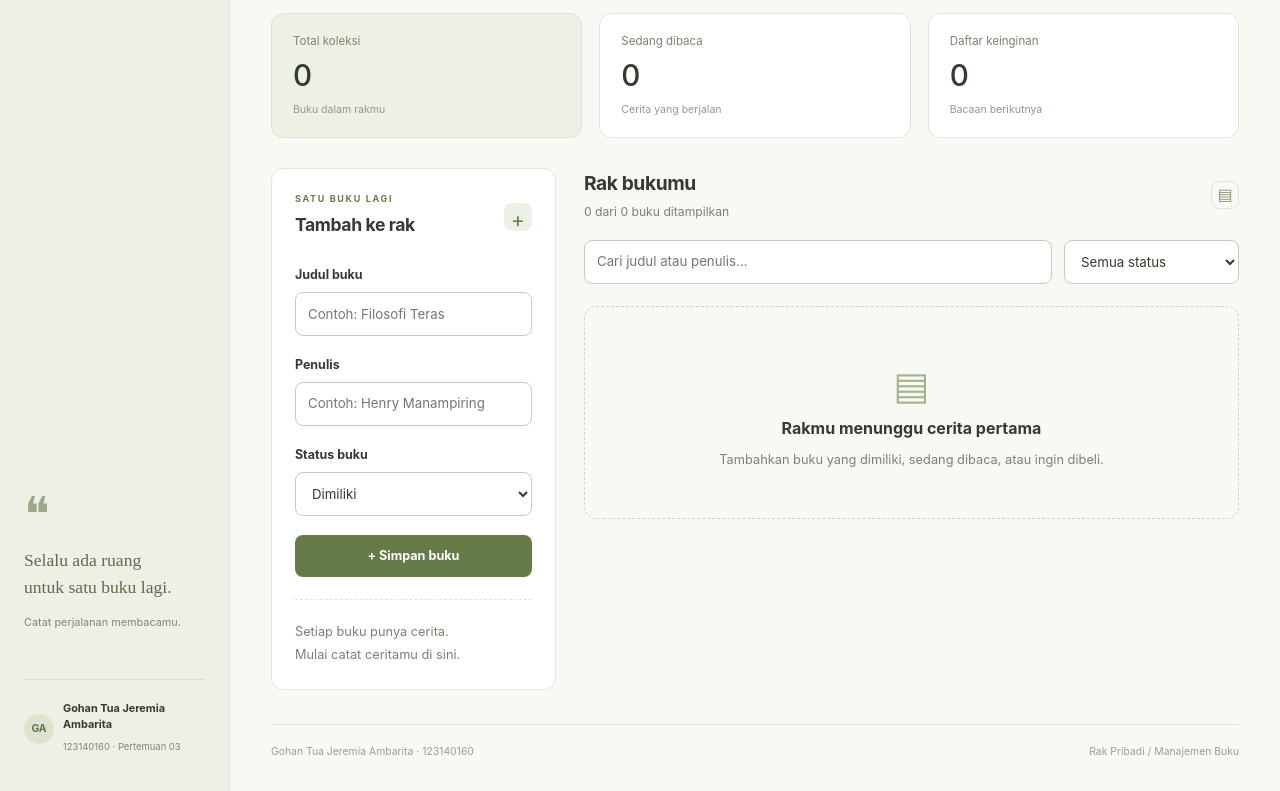
it: menolak judul dan penulis kosong dengan feedback visual
(page scrolled)
Click the button "+ Simpan buku" at {"x": 414, "y": 556}, box [295, 535, 532, 577]
(page scrolled)
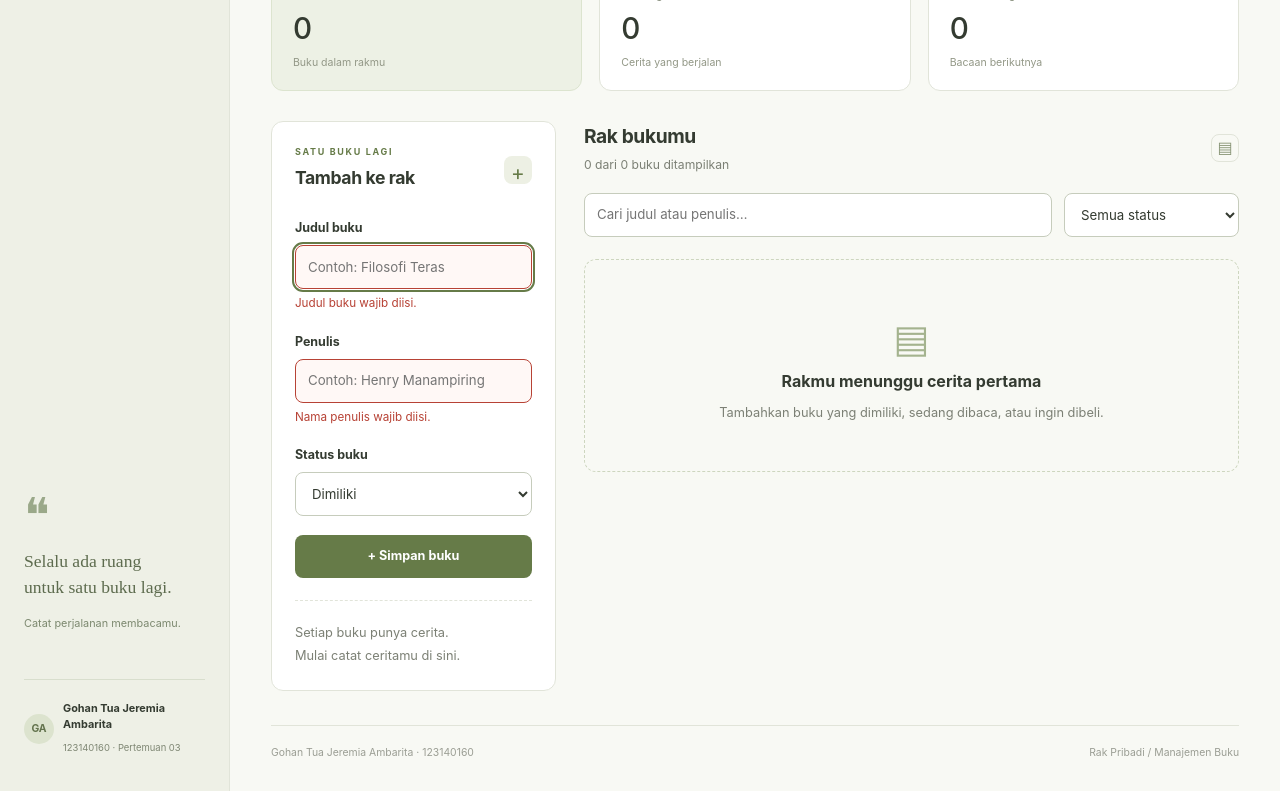
Check: the text "Judul buku wajib diisi." is shown, box [295, 296, 417, 310]
Check: the text "Nama penulis wajib diisi." is shown, box [295, 410, 431, 424]
